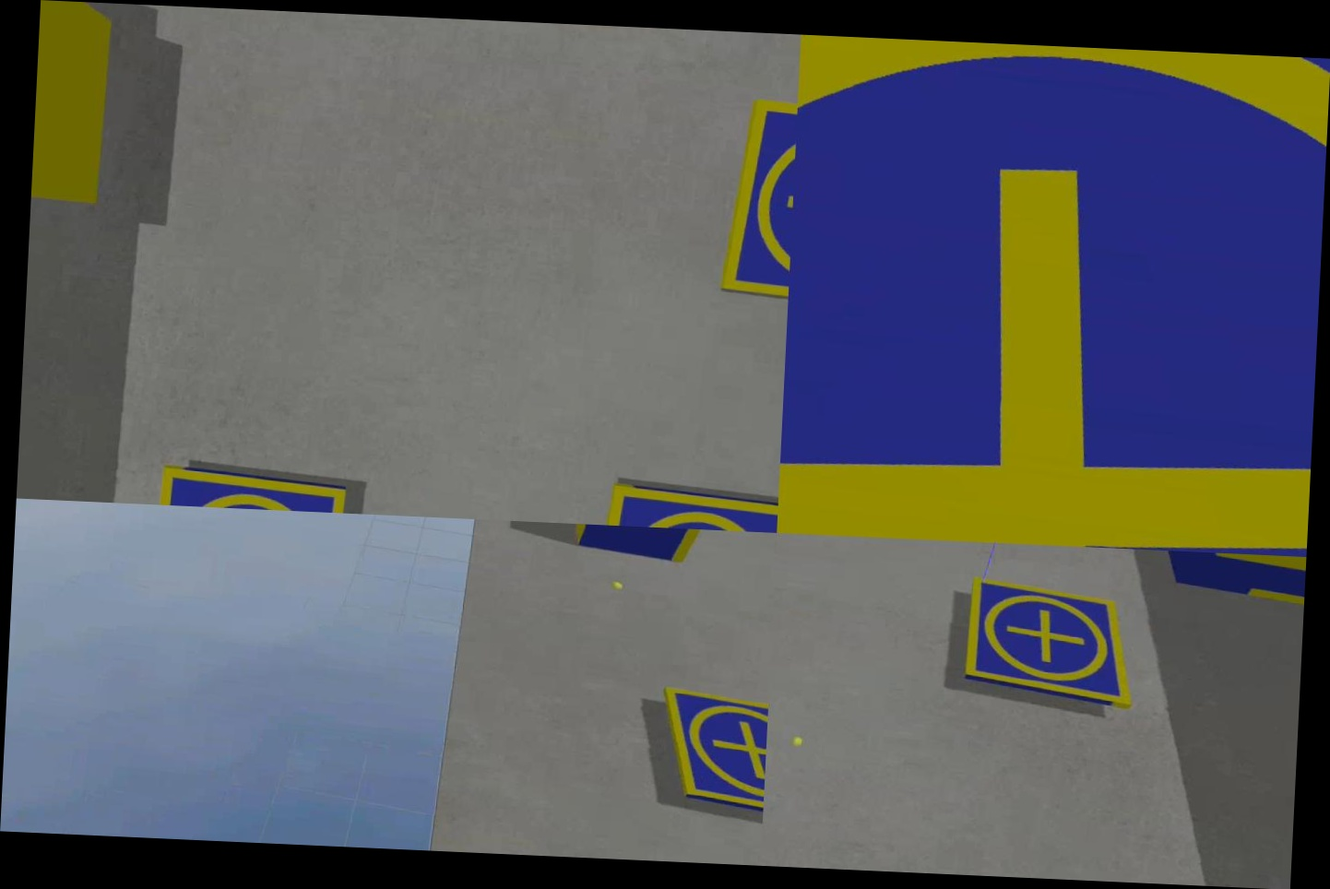small_base: (777, 35, 1330, 557), (953, 575, 1146, 714), (720, 91, 798, 311), (650, 684, 769, 824), (147, 466, 350, 514)
